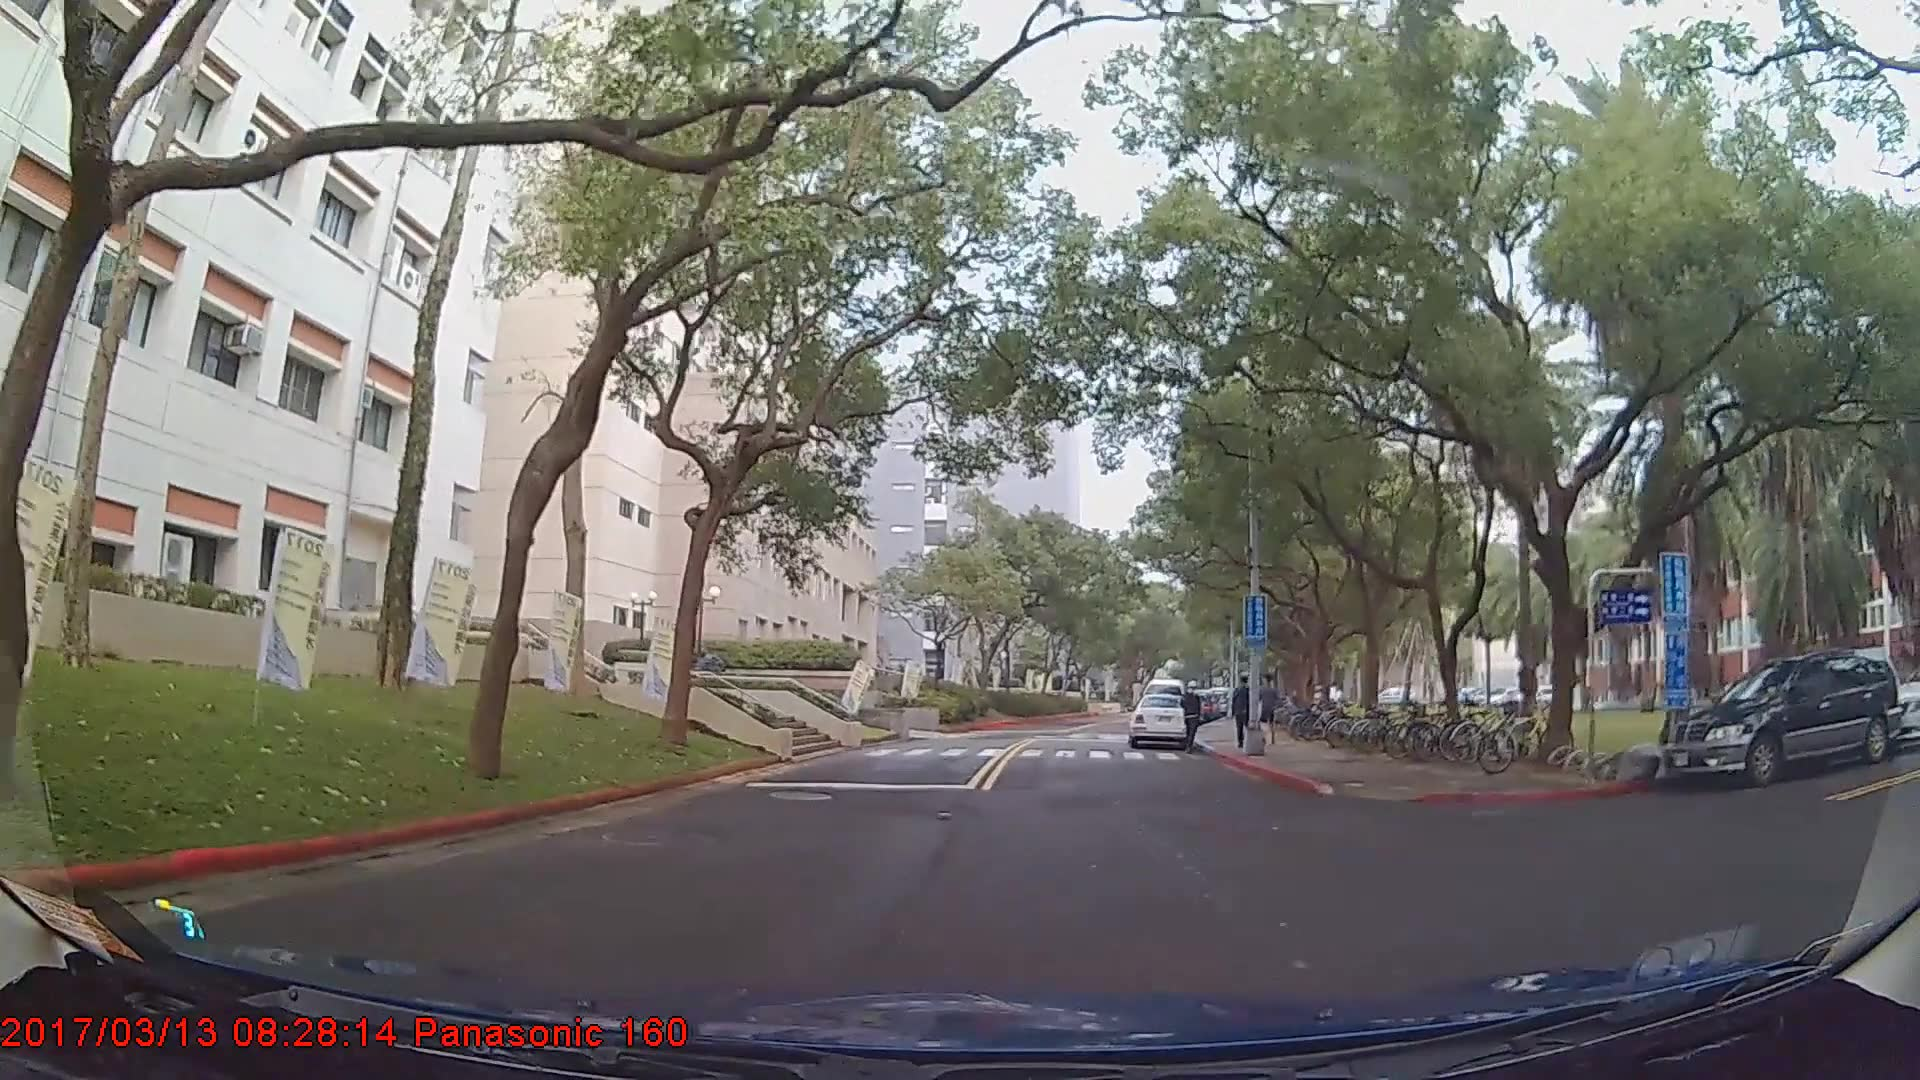pedestrian: (1233, 678, 1258, 750), (1178, 679, 1201, 754)
vehicle: (1660, 644, 1904, 788), (1125, 690, 1191, 746)
